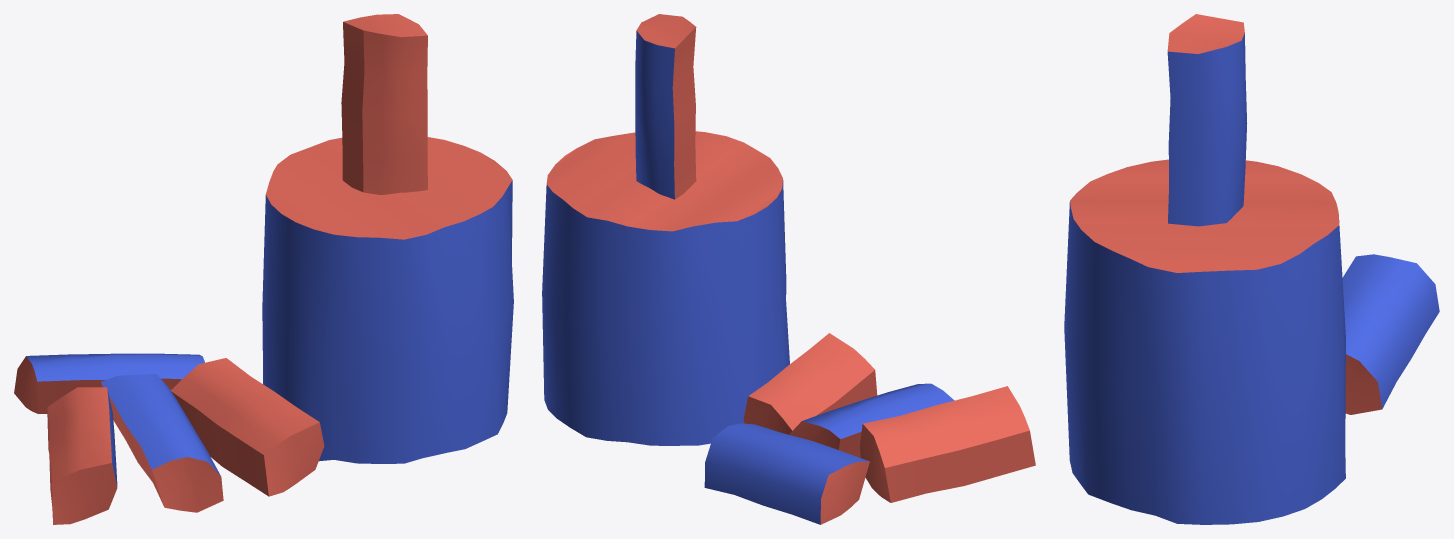
Rendered from Cuttingblock.fbx.
3 renders of one model, left to right at view 1: azimuth 30°, elevation 25°; view 2: azimuth 150°, elevation 25°; view 3: azimuth 270°, elevation 25°, orthographic. The views are drawn at different scales.
Parts seen in each view (by area): view 1: Cylinder, Cube, Cube.001, Cube.002, Cube.003, Cube.004; view 2: Cylinder, Cube.003, Cube.004, Cube, Cube.001, Cube.002; view 3: Cylinder, Cube, Cube.004.
Boxes of the visible parts, x1,y1,x2,y2 form: Cylinder: [262, 137, 513, 463]; Cube: [341, 14, 427, 194]; Cube.001: [170, 358, 324, 496]; Cube.002: [100, 374, 223, 512]; Cube.003: [47, 387, 117, 524]; Cube.004: [14, 353, 204, 413]; Cylinder: [542, 131, 789, 445]; Cube.003: [860, 386, 1035, 502]; Cube.004: [704, 423, 869, 524]; Cube: [635, 14, 696, 199]; Cube.001: [743, 333, 877, 434]; Cube.002: [789, 383, 954, 457]; Cylinder: [1064, 159, 1345, 524]; Cube: [1167, 14, 1247, 226]; Cube.004: [1342, 254, 1439, 414].
Size of the model in its own units: 244 by 201 by 151.
